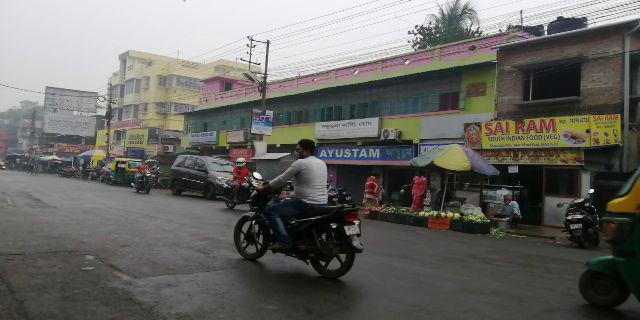Car: (168, 151, 239, 202)
Motorbike: (228, 152, 369, 273)
